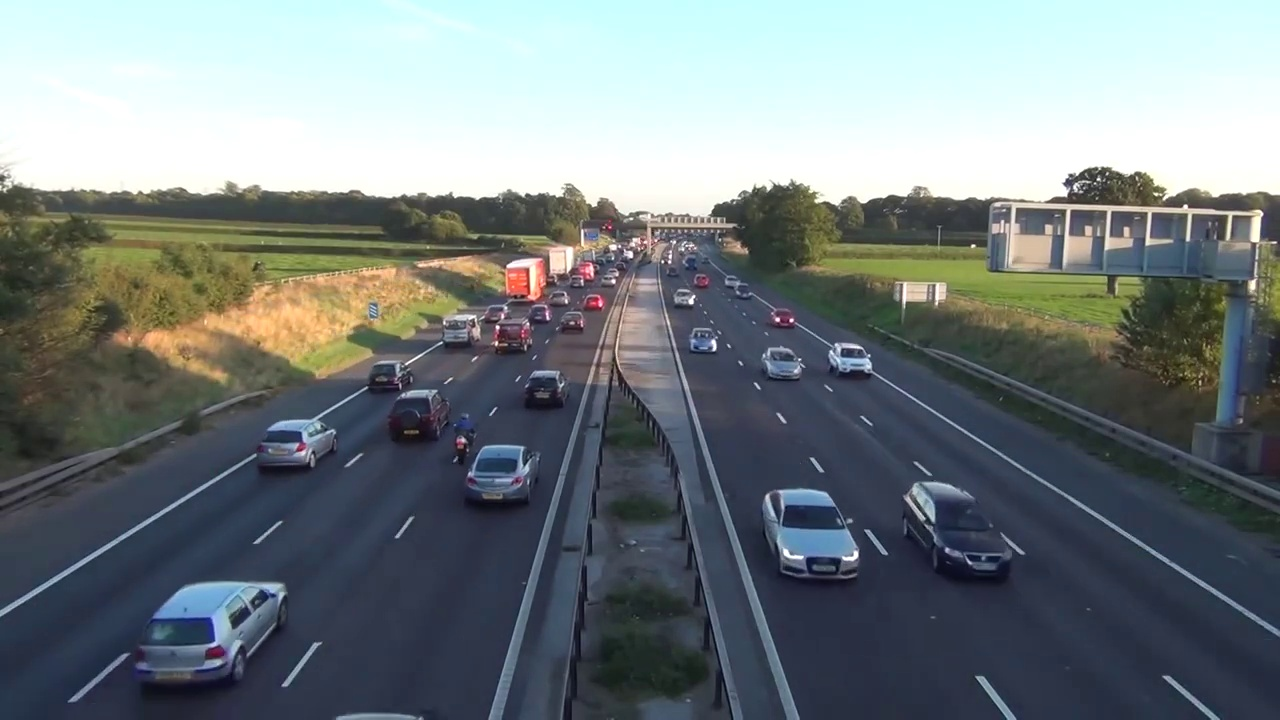bus: (130, 578, 291, 686), (900, 476, 1017, 594), (761, 490, 868, 583), (253, 414, 344, 476), (468, 440, 546, 503), (386, 388, 454, 439), (360, 359, 416, 400), (515, 368, 570, 409), (824, 338, 873, 380), (756, 347, 804, 385), (327, 706, 430, 720), (687, 327, 721, 357), (768, 307, 797, 330), (484, 303, 513, 325), (561, 310, 586, 334), (546, 290, 573, 309), (528, 304, 553, 324), (671, 289, 696, 309), (582, 293, 603, 313), (734, 281, 755, 299), (723, 276, 743, 290), (693, 273, 709, 290), (600, 273, 617, 288), (568, 275, 586, 289), (546, 273, 559, 289), (666, 265, 680, 278), (614, 262, 627, 272), (606, 268, 619, 276), (592, 263, 601, 274)
car: (504, 257, 547, 303), (549, 247, 574, 282)
jeep: (450, 414, 479, 470)
lorry: (439, 312, 481, 348), (494, 317, 535, 353), (576, 257, 580, 270)
minibus: (577, 263, 595, 281), (684, 254, 701, 270)
